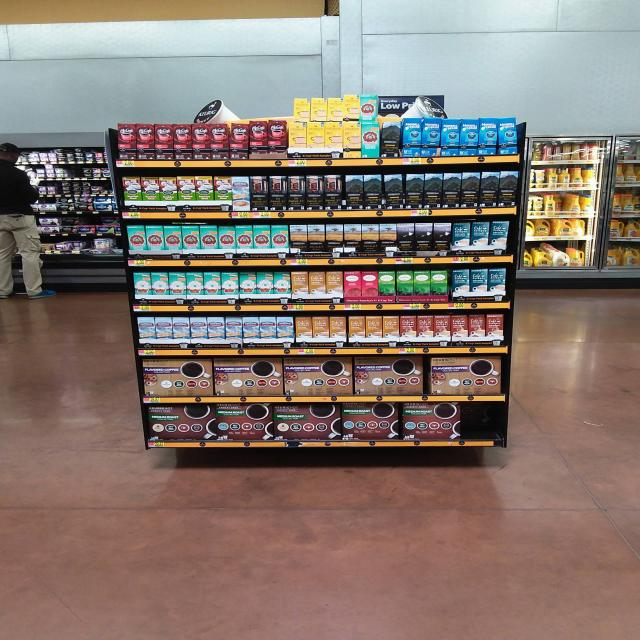void: (468, 404, 499, 441)
